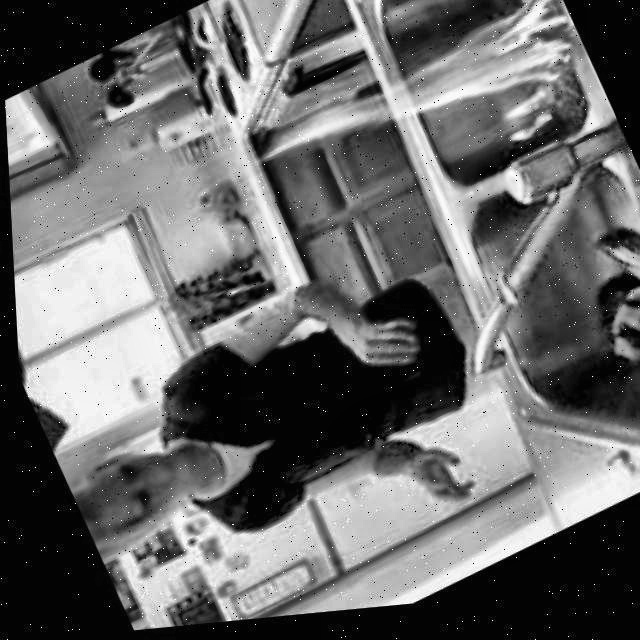Fire: (251, 0, 589, 213), (503, 96, 566, 160)
